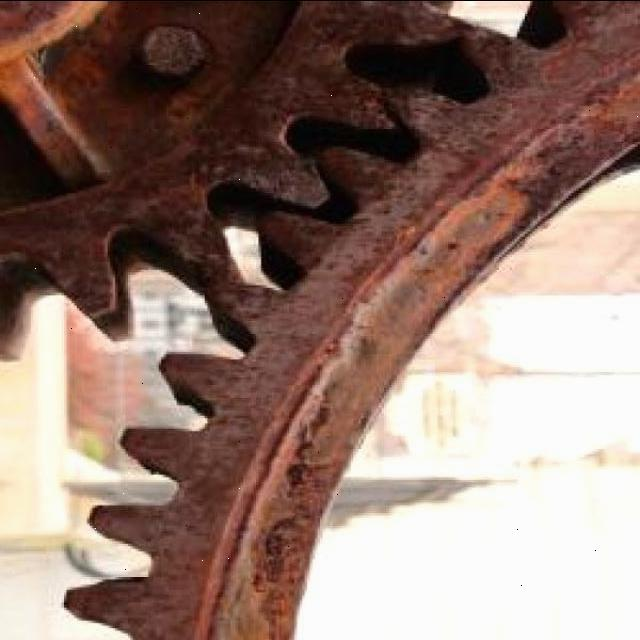corrosion: (1, 0, 638, 638)
